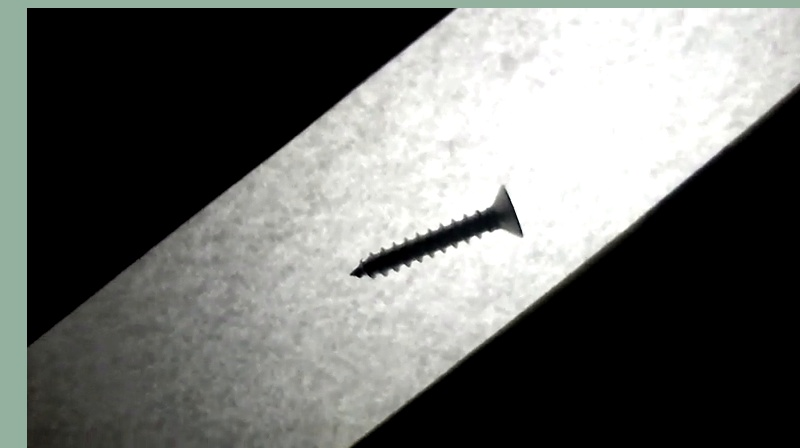S001: (341, 180, 524, 280)
